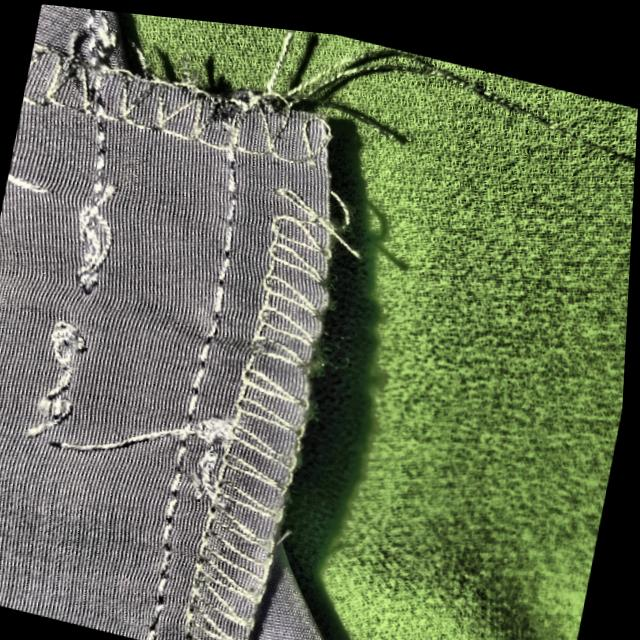Stitch: (213, 69, 388, 313), (19, 190, 162, 391)
